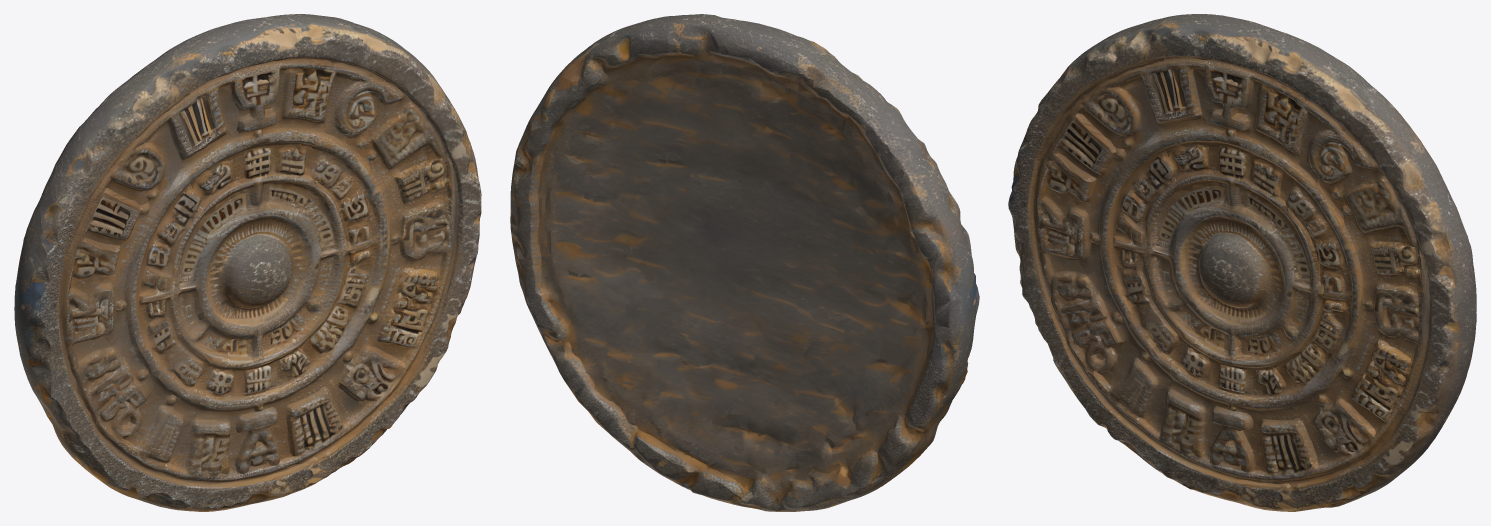
File: lost-seal-artifact.glb
The picture shows the model from 3 angles, left to right: view 1: azimuth 30°, elevation 25°; view 2: azimuth 150°, elevation 25°; view 3: azimuth 330°, elevation 25°; orthographic projection.
Parts seen in each view (by area): view 1: textured_mesh; view 2: textured_mesh; view 3: textured_mesh.
Boxes of the visible parts, left/top/right/bottom form: textured_mesh: left=14, top=14, right=481, bottom=511; textured_mesh: left=510, top=14, right=979, bottom=511; textured_mesh: left=1008, top=14, right=1476, bottom=511.
Bounding box in the file's own units: 1.99 × 1.99 × 0.2432.
Materials: 1 (1 with a texture image).
